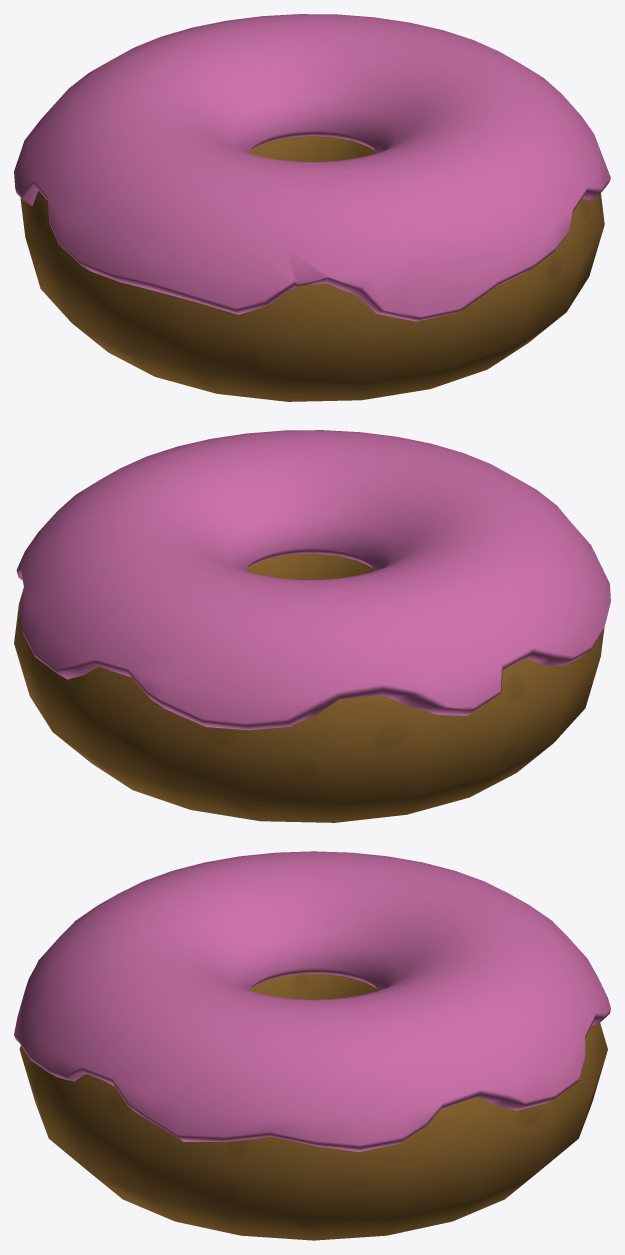
The model's file is Doughnut.fbx.
The picture shows the model from 3 angles, top to bottom: view 1: azimuth 30°, elevation 25°; view 2: azimuth 150°, elevation 25°; view 3: azimuth 270°, elevation 25°; orthographic projection.
Visible parts, largest first — view 1: Doughnut; view 2: Doughnut; view 3: Doughnut.
Part boxes in pixels (x1,y1,x2,y2): Doughnut: (14,14,610,401); Doughnut: (14,430,610,822); Doughnut: (14,851,610,1240).
Size of the model in its own units: 0.5803 by 0.235 by 0.5836.
Materials: 1 (1 with a texture image).
